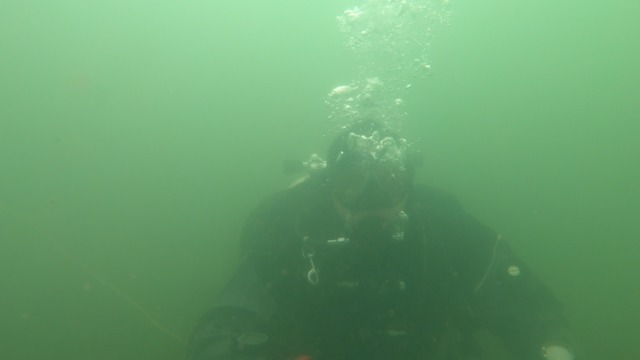Diver: (166, 107, 600, 351)
Head: (318, 116, 429, 273)
